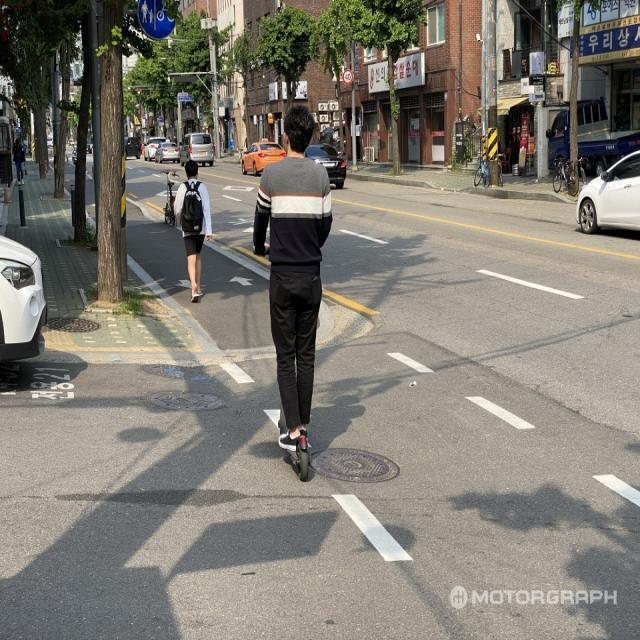non-helmet: (247, 90, 346, 487)
